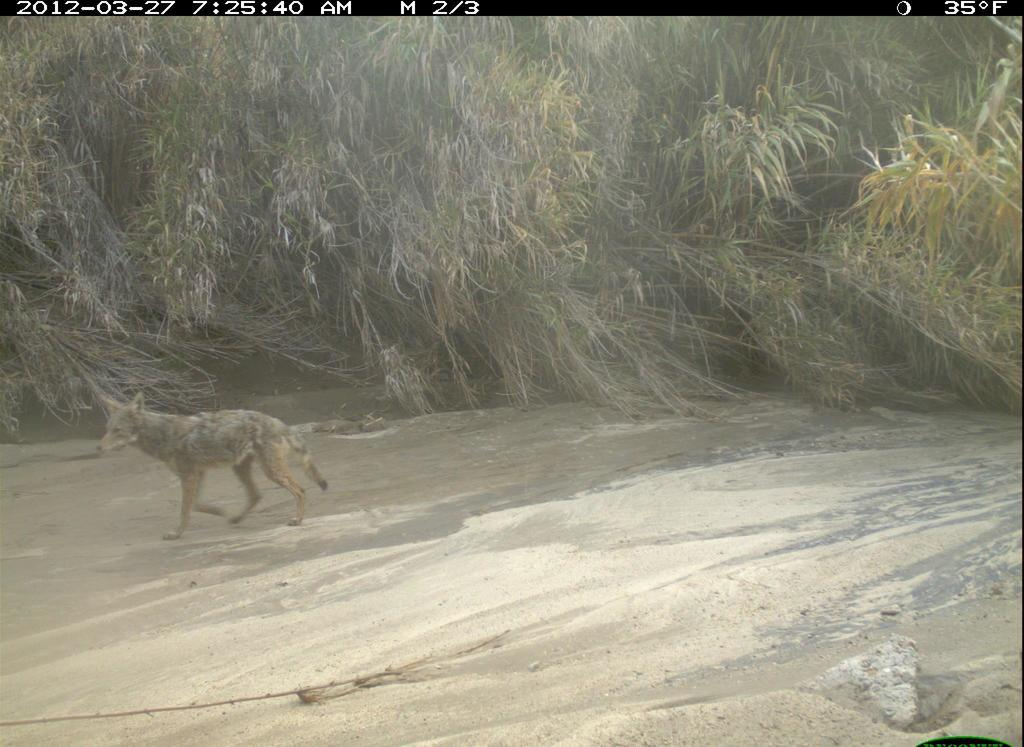coyote: (88, 387, 336, 542)
